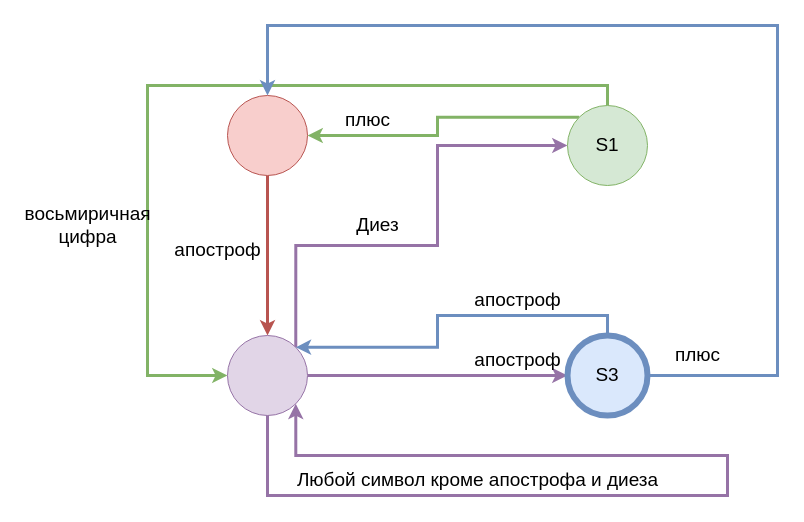
The diagram is 804 pixels wide and 522 high, and some of its shapes have lost their labels. Each missing label, with the centre of its shape:
S0: point 267,135
S2: point 267,375
